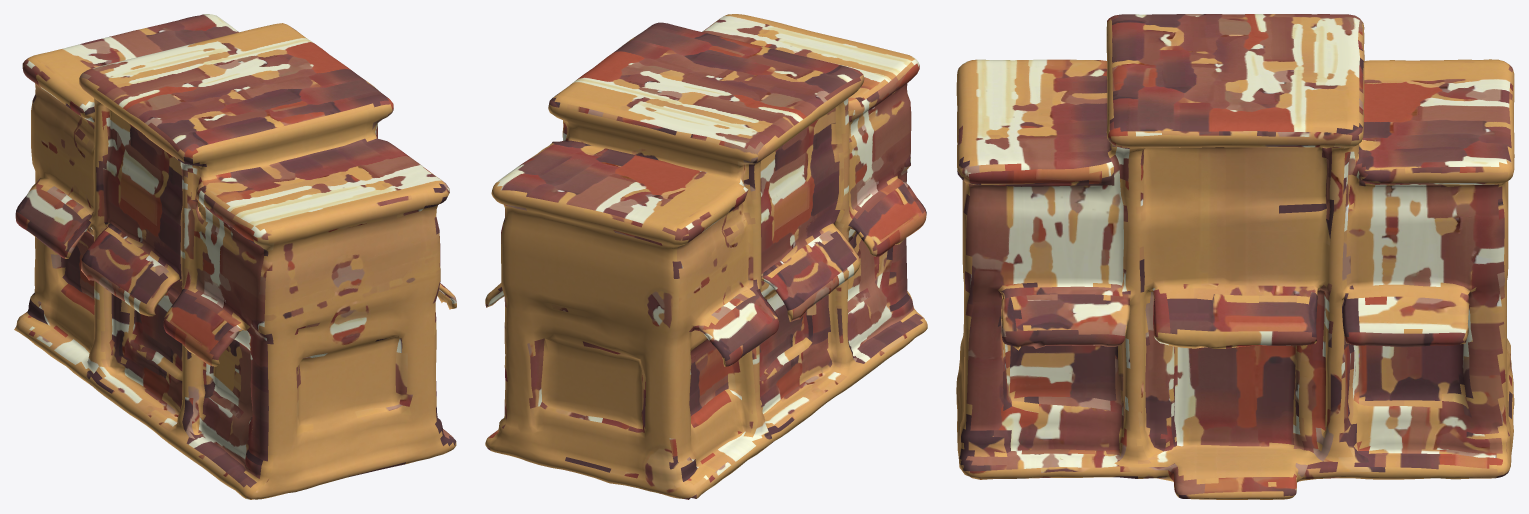
File: B03_ConvenienceStore.fbx
3 renders of one model, left to right at view 1: azimuth 30°, elevation 25°; view 2: azimuth 150°, elevation 25°; view 3: azimuth 270°, elevation 25°, orthographic. The views are drawn at different scales.
Parts seen in each view (by area): view 1: tripo_node_9cd1139f; view 2: tripo_node_9cd1139f; view 3: tripo_node_9cd1139f.
Part boxes in pixels (bbox=[...]): tripo_node_9cd1139f: bbox=[14, 14, 456, 499]; tripo_node_9cd1139f: bbox=[485, 14, 927, 499]; tripo_node_9cd1139f: bbox=[956, 14, 1514, 499].
Bounding box in the file's own units: 0.6109 × 0.6873 × 0.9795.
